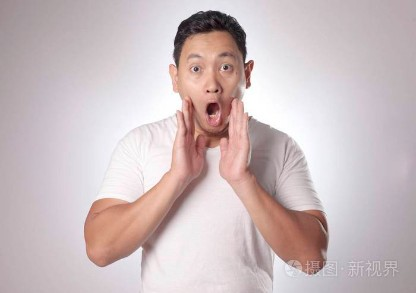张嘴: (197, 94, 227, 129)
